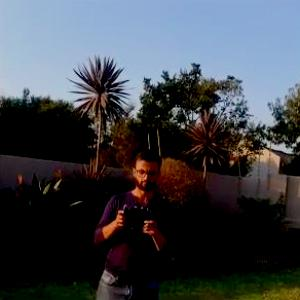follow: (89, 139, 182, 299)
